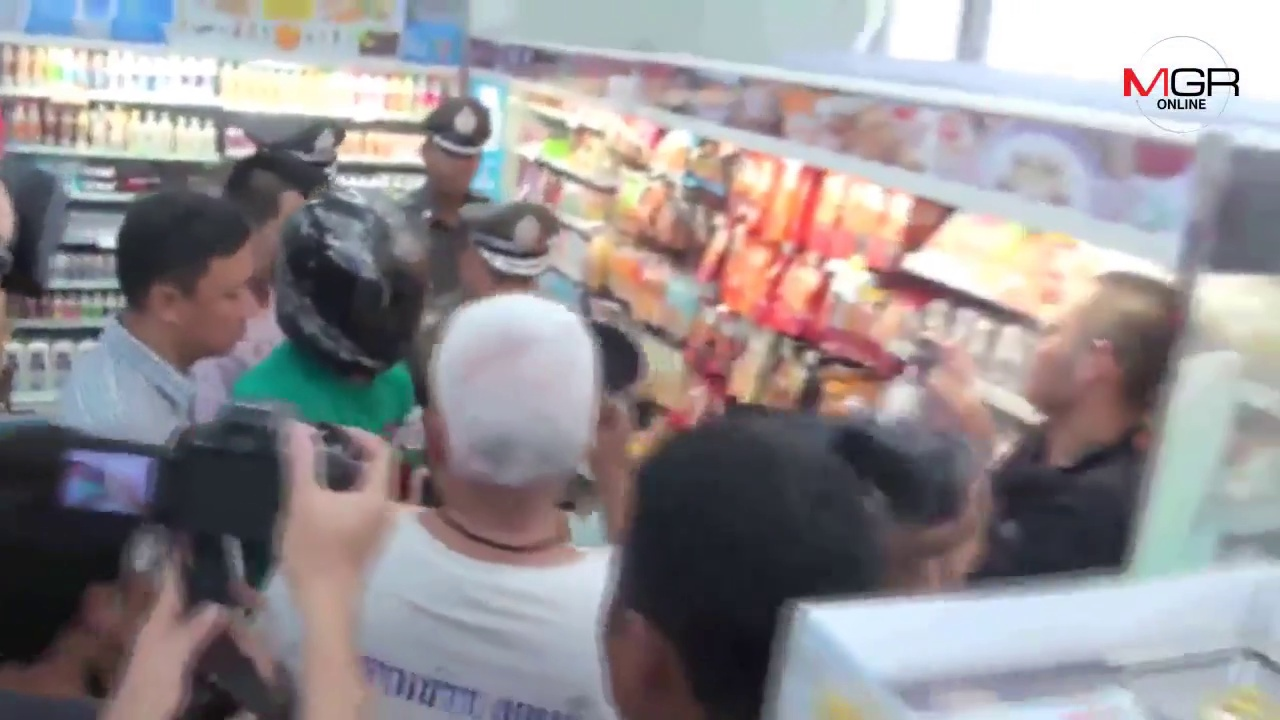helmet: (278, 194, 417, 373)
